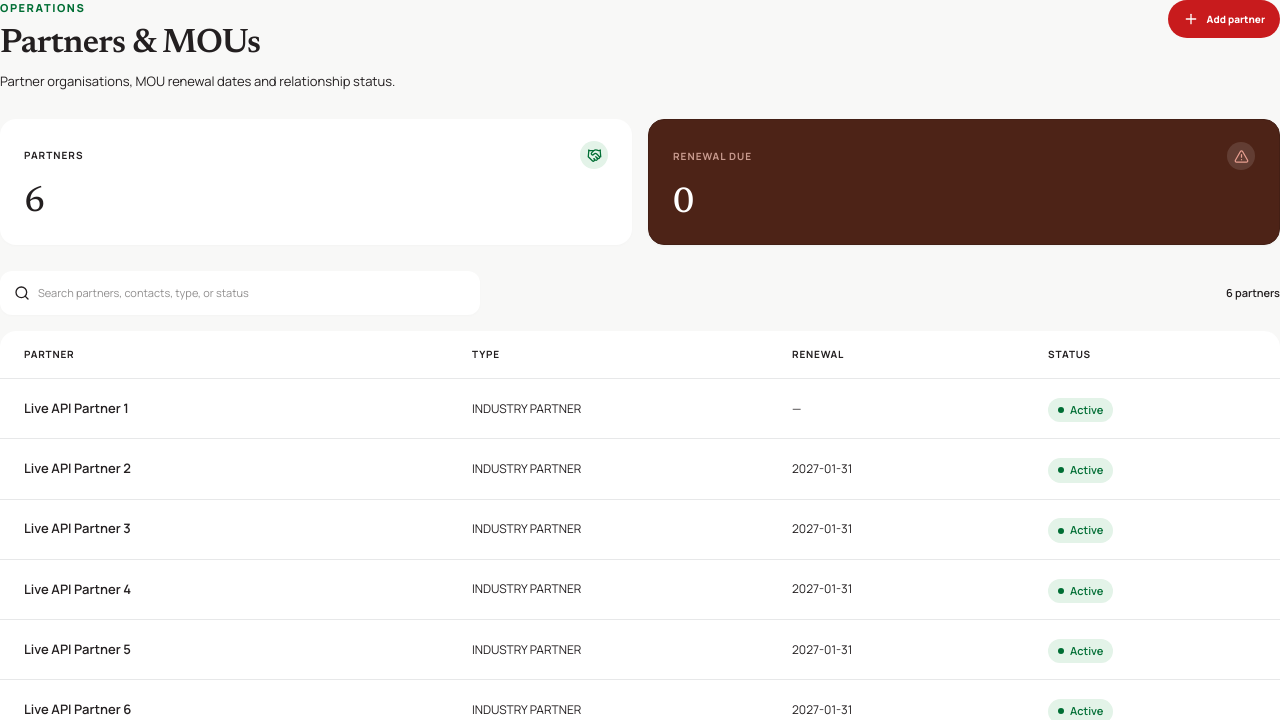
Test case: PartnersMousPage › keeps the form open and shows the API error when creation fails
The image size is (1280, 720).
Expected: the text "Live API Partner 1" is shown, [0,379,448,439]
Click the button "Add partner" at (1224, 19), box [1168,0,1279,38]
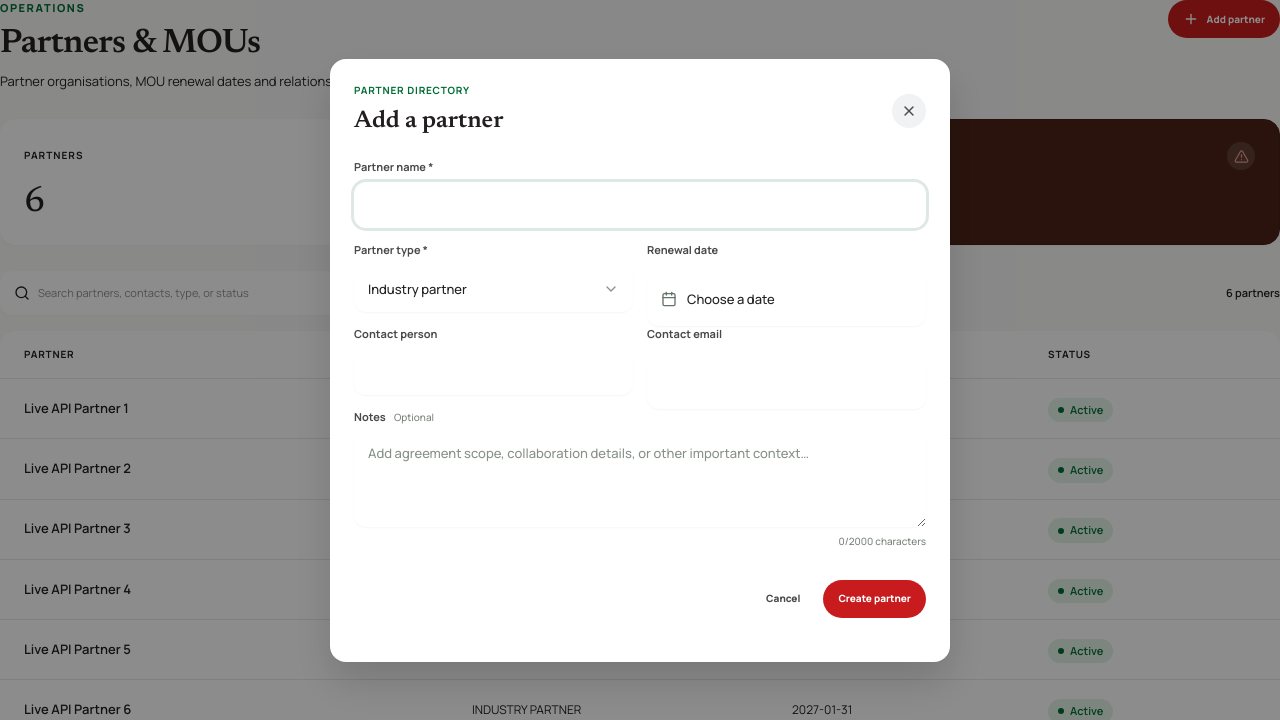
Type "Duplicate Partner" into the field labelled "Partner name *" at (640, 205), box [354,182,926,228]
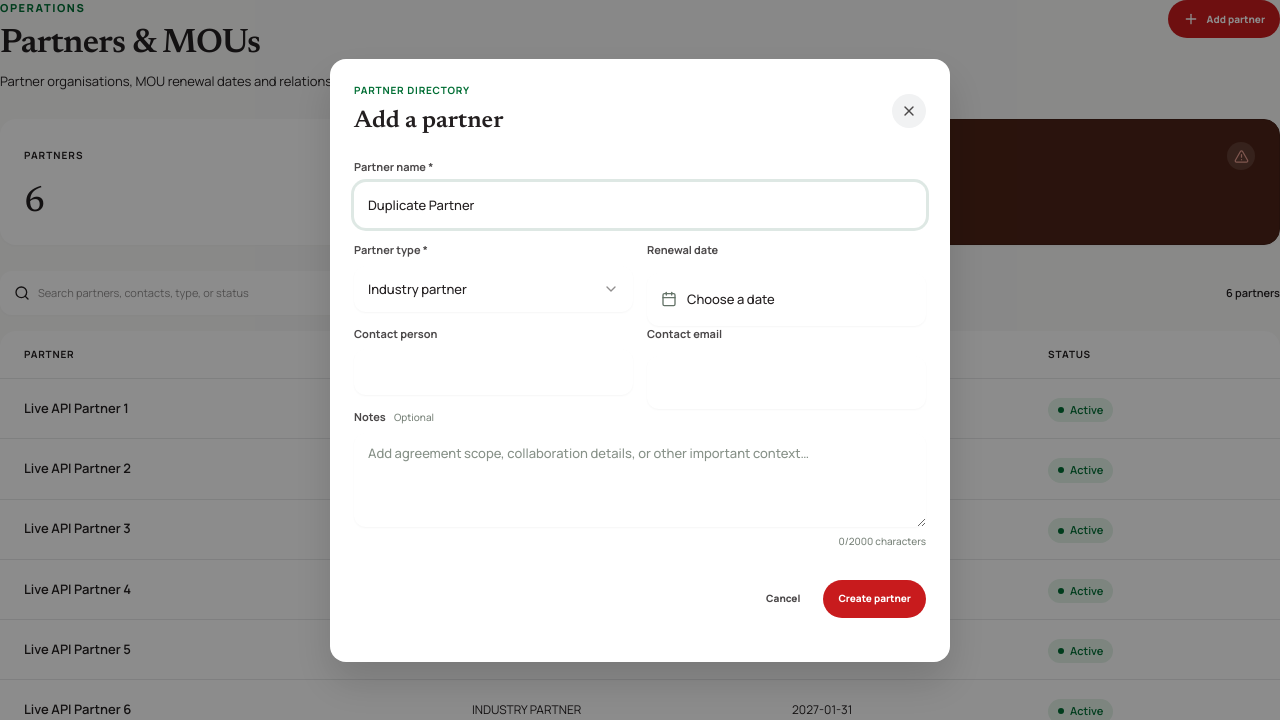
Click the button "Create partner" at (875, 598), box [823,580,926,618]
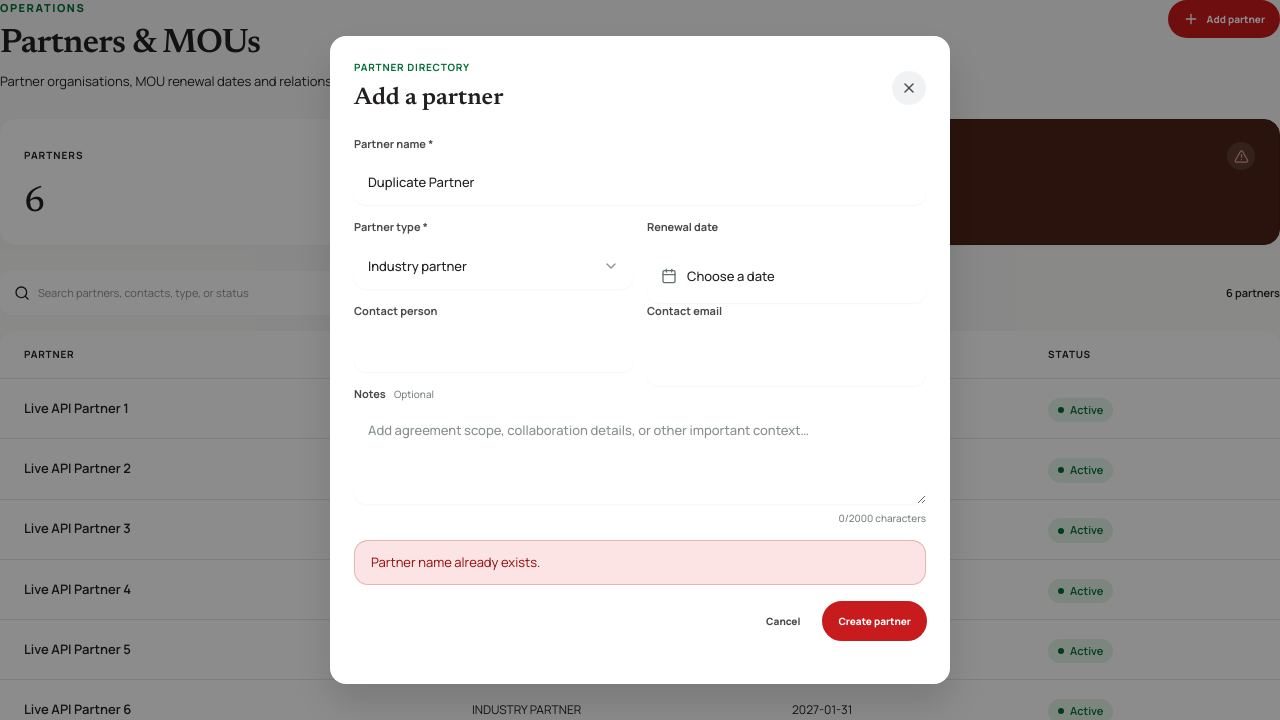
Expected: the dialog "Add a partner" is shown
Expected: the message reads "Partner name already exists.", [371,553,540,571]
